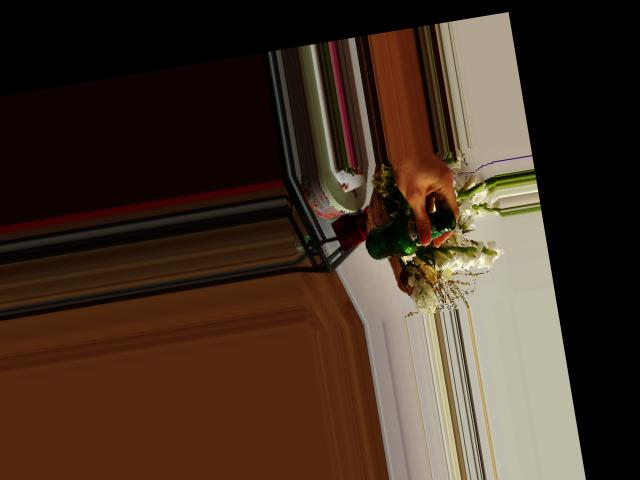beer: (361, 206, 459, 262)
